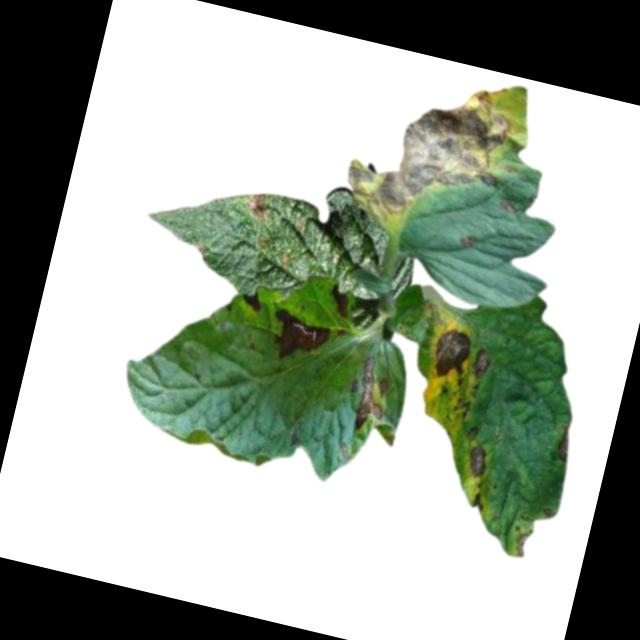Early_blight: (340, 54, 520, 237), (342, 350, 398, 437), (265, 305, 336, 372), (427, 322, 476, 388), (463, 441, 494, 478), (326, 283, 357, 320), (511, 522, 538, 559), (244, 189, 272, 222), (469, 346, 494, 382), (238, 284, 268, 314), (553, 420, 576, 454), (499, 195, 521, 216), (457, 231, 477, 253)
